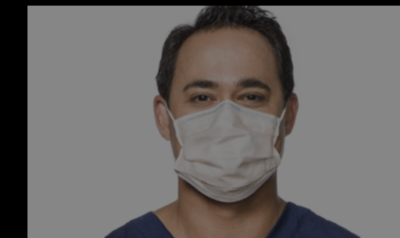with_mask: (170, 72, 284, 200)
